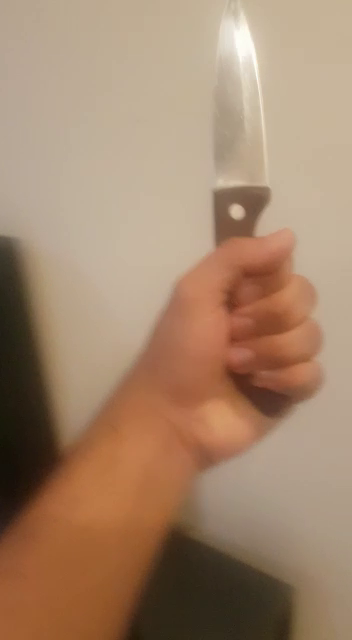knife: (137, 1, 348, 458)
